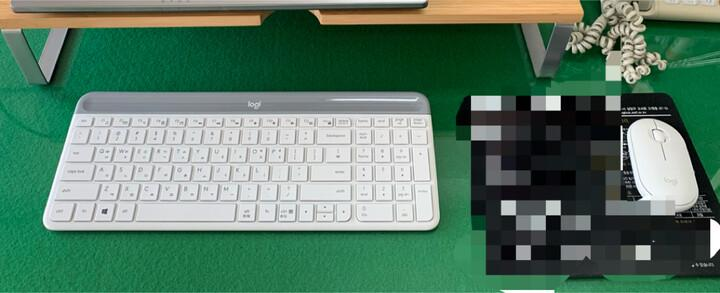keyboard: (42, 90, 440, 232)
mouse: (626, 117, 699, 212)
